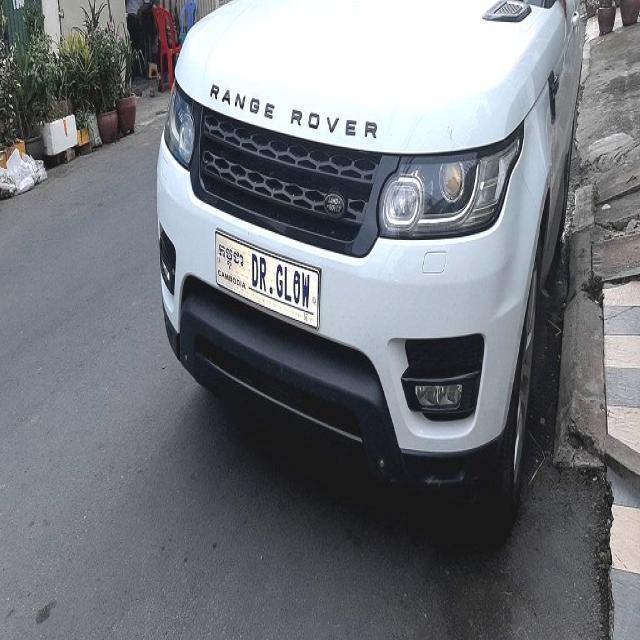Cambodia: (218, 241, 246, 272)
